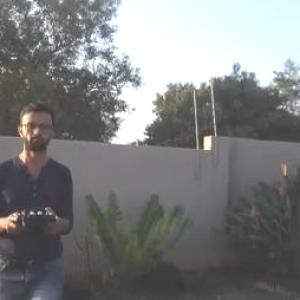follow: (0, 97, 78, 299)
